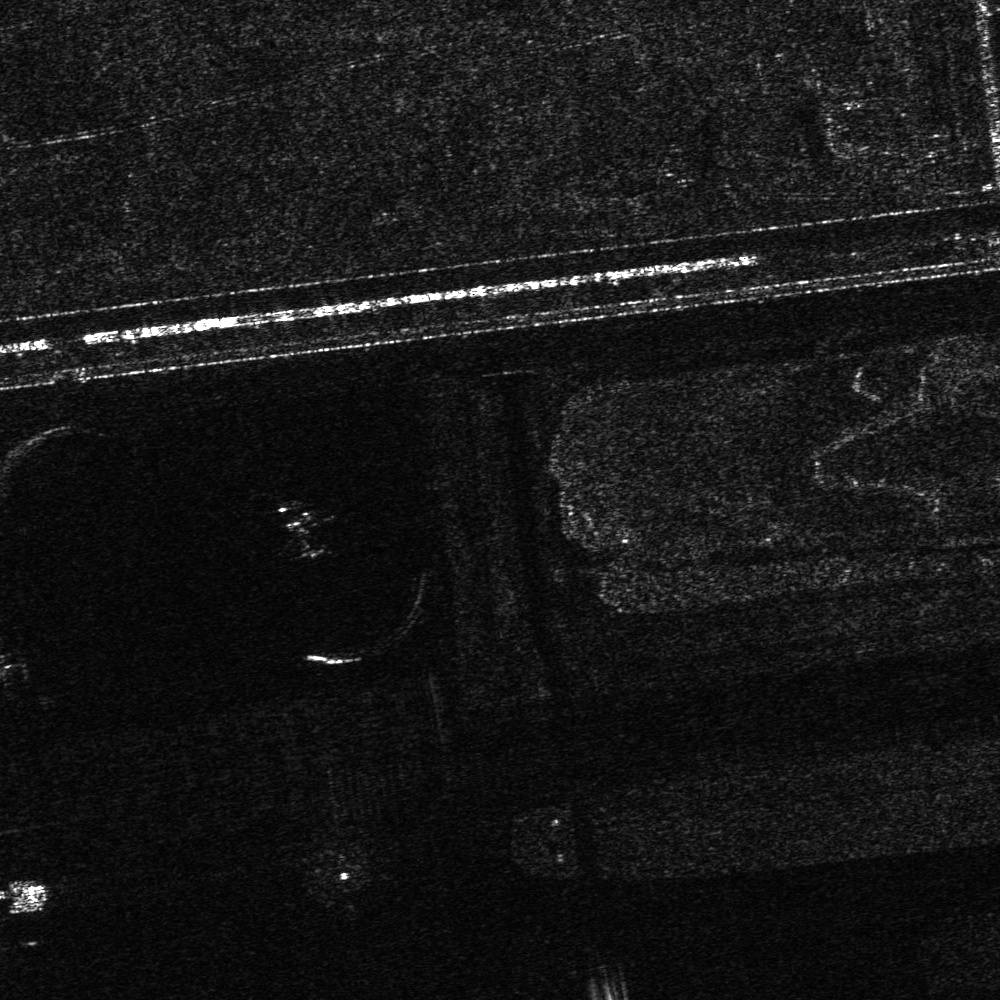A220: (268, 503, 337, 561)
